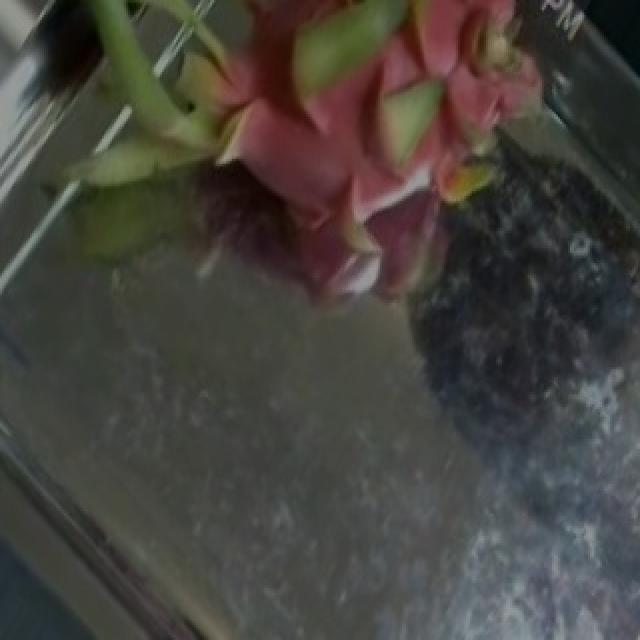fruit: (212, 0, 632, 392)
